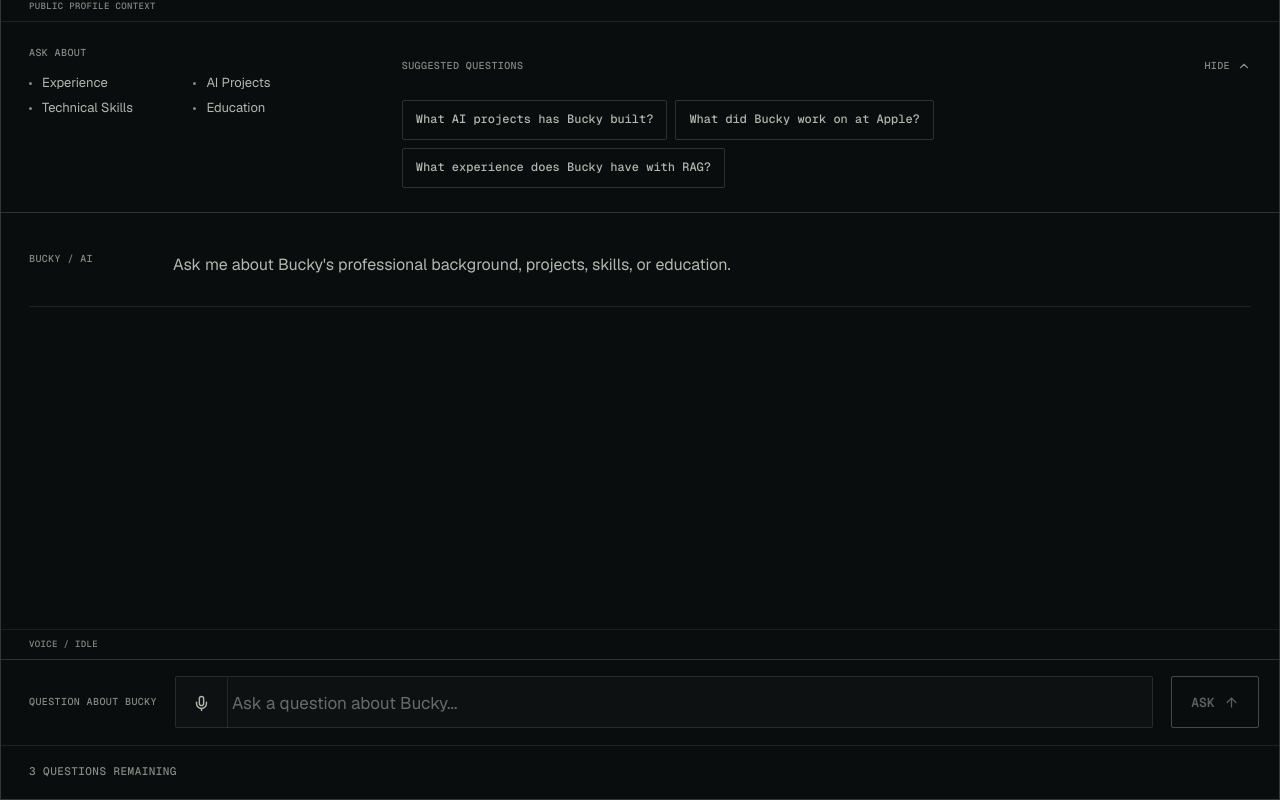
Test: AskBucky voice input › does not start multiple recordings while permission is pending
The width and height of the screenshot is (1280, 800).
(page scrolled)
Expected: the field labelled "Question about Bucky" is enabled, [228, 677, 1152, 729]
Click the button named "Start voice question" at (202, 703), box [176, 678, 228, 728]
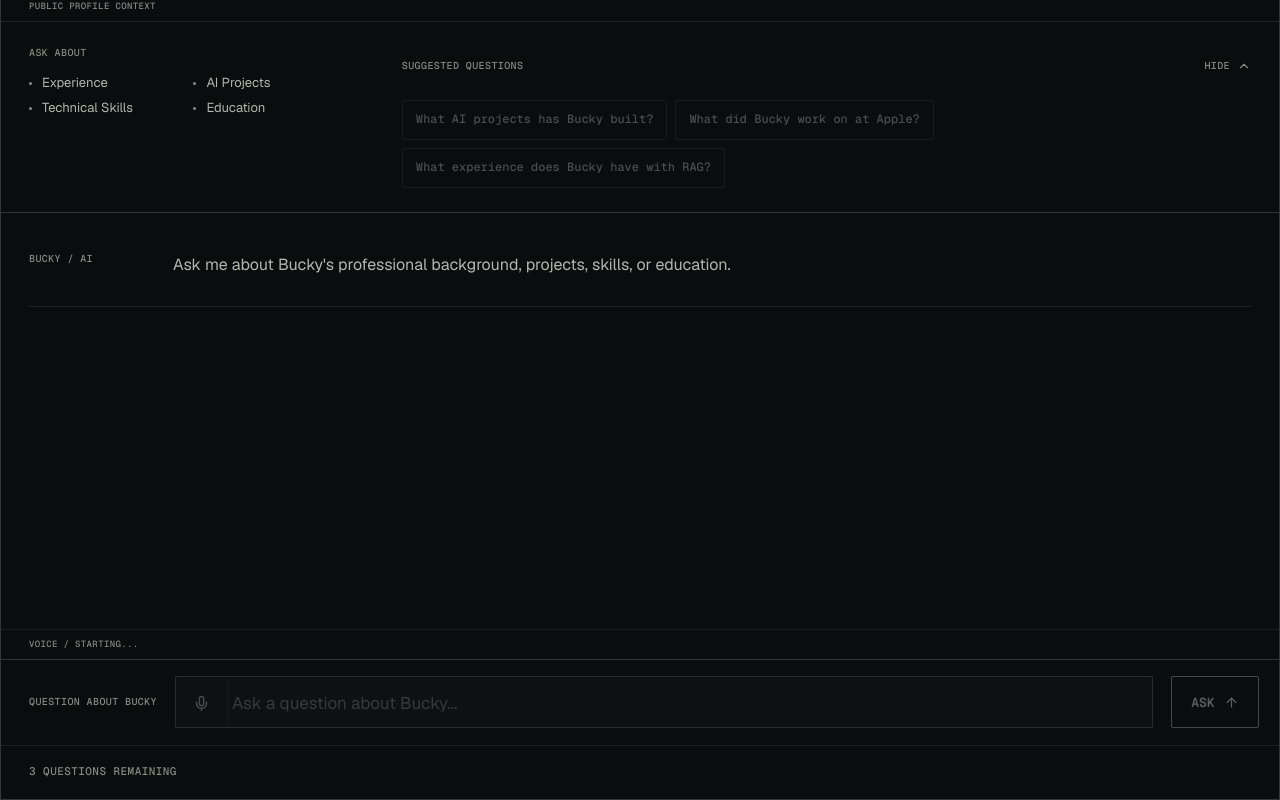
Click the button named "Start voice question" at (202, 703), box [176, 678, 228, 728]
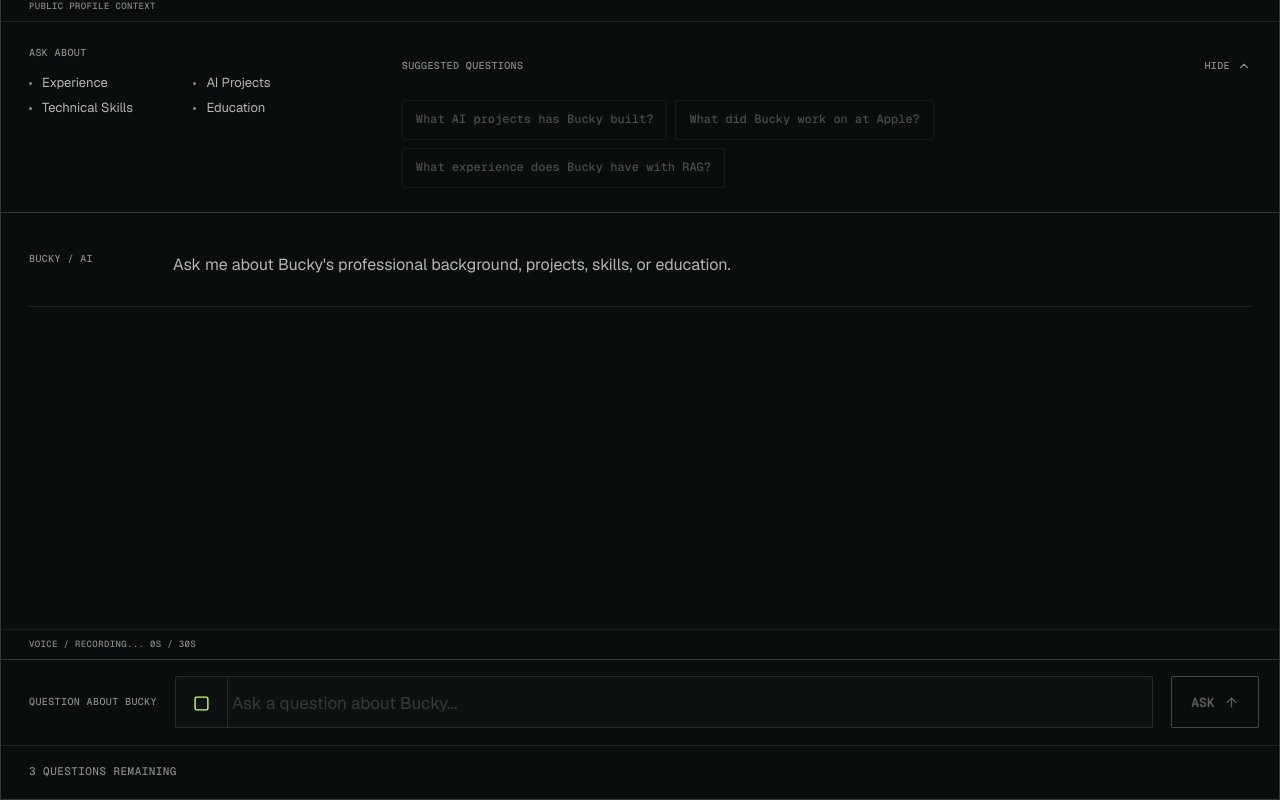
Expected: the button with aria-label "Send question to Ask Bucky AI" is disabled, [1171, 676, 1259, 728]
Result: the button named "Stop recording" is shown at [176, 678, 228, 728]
